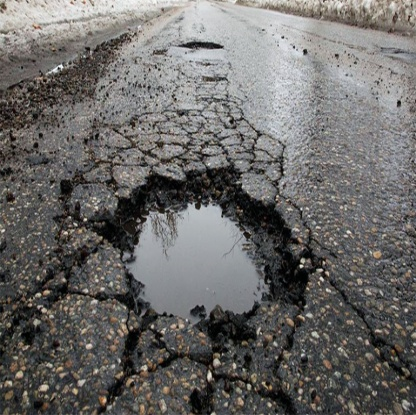pothole: (75, 145, 335, 383), (171, 34, 230, 58)
